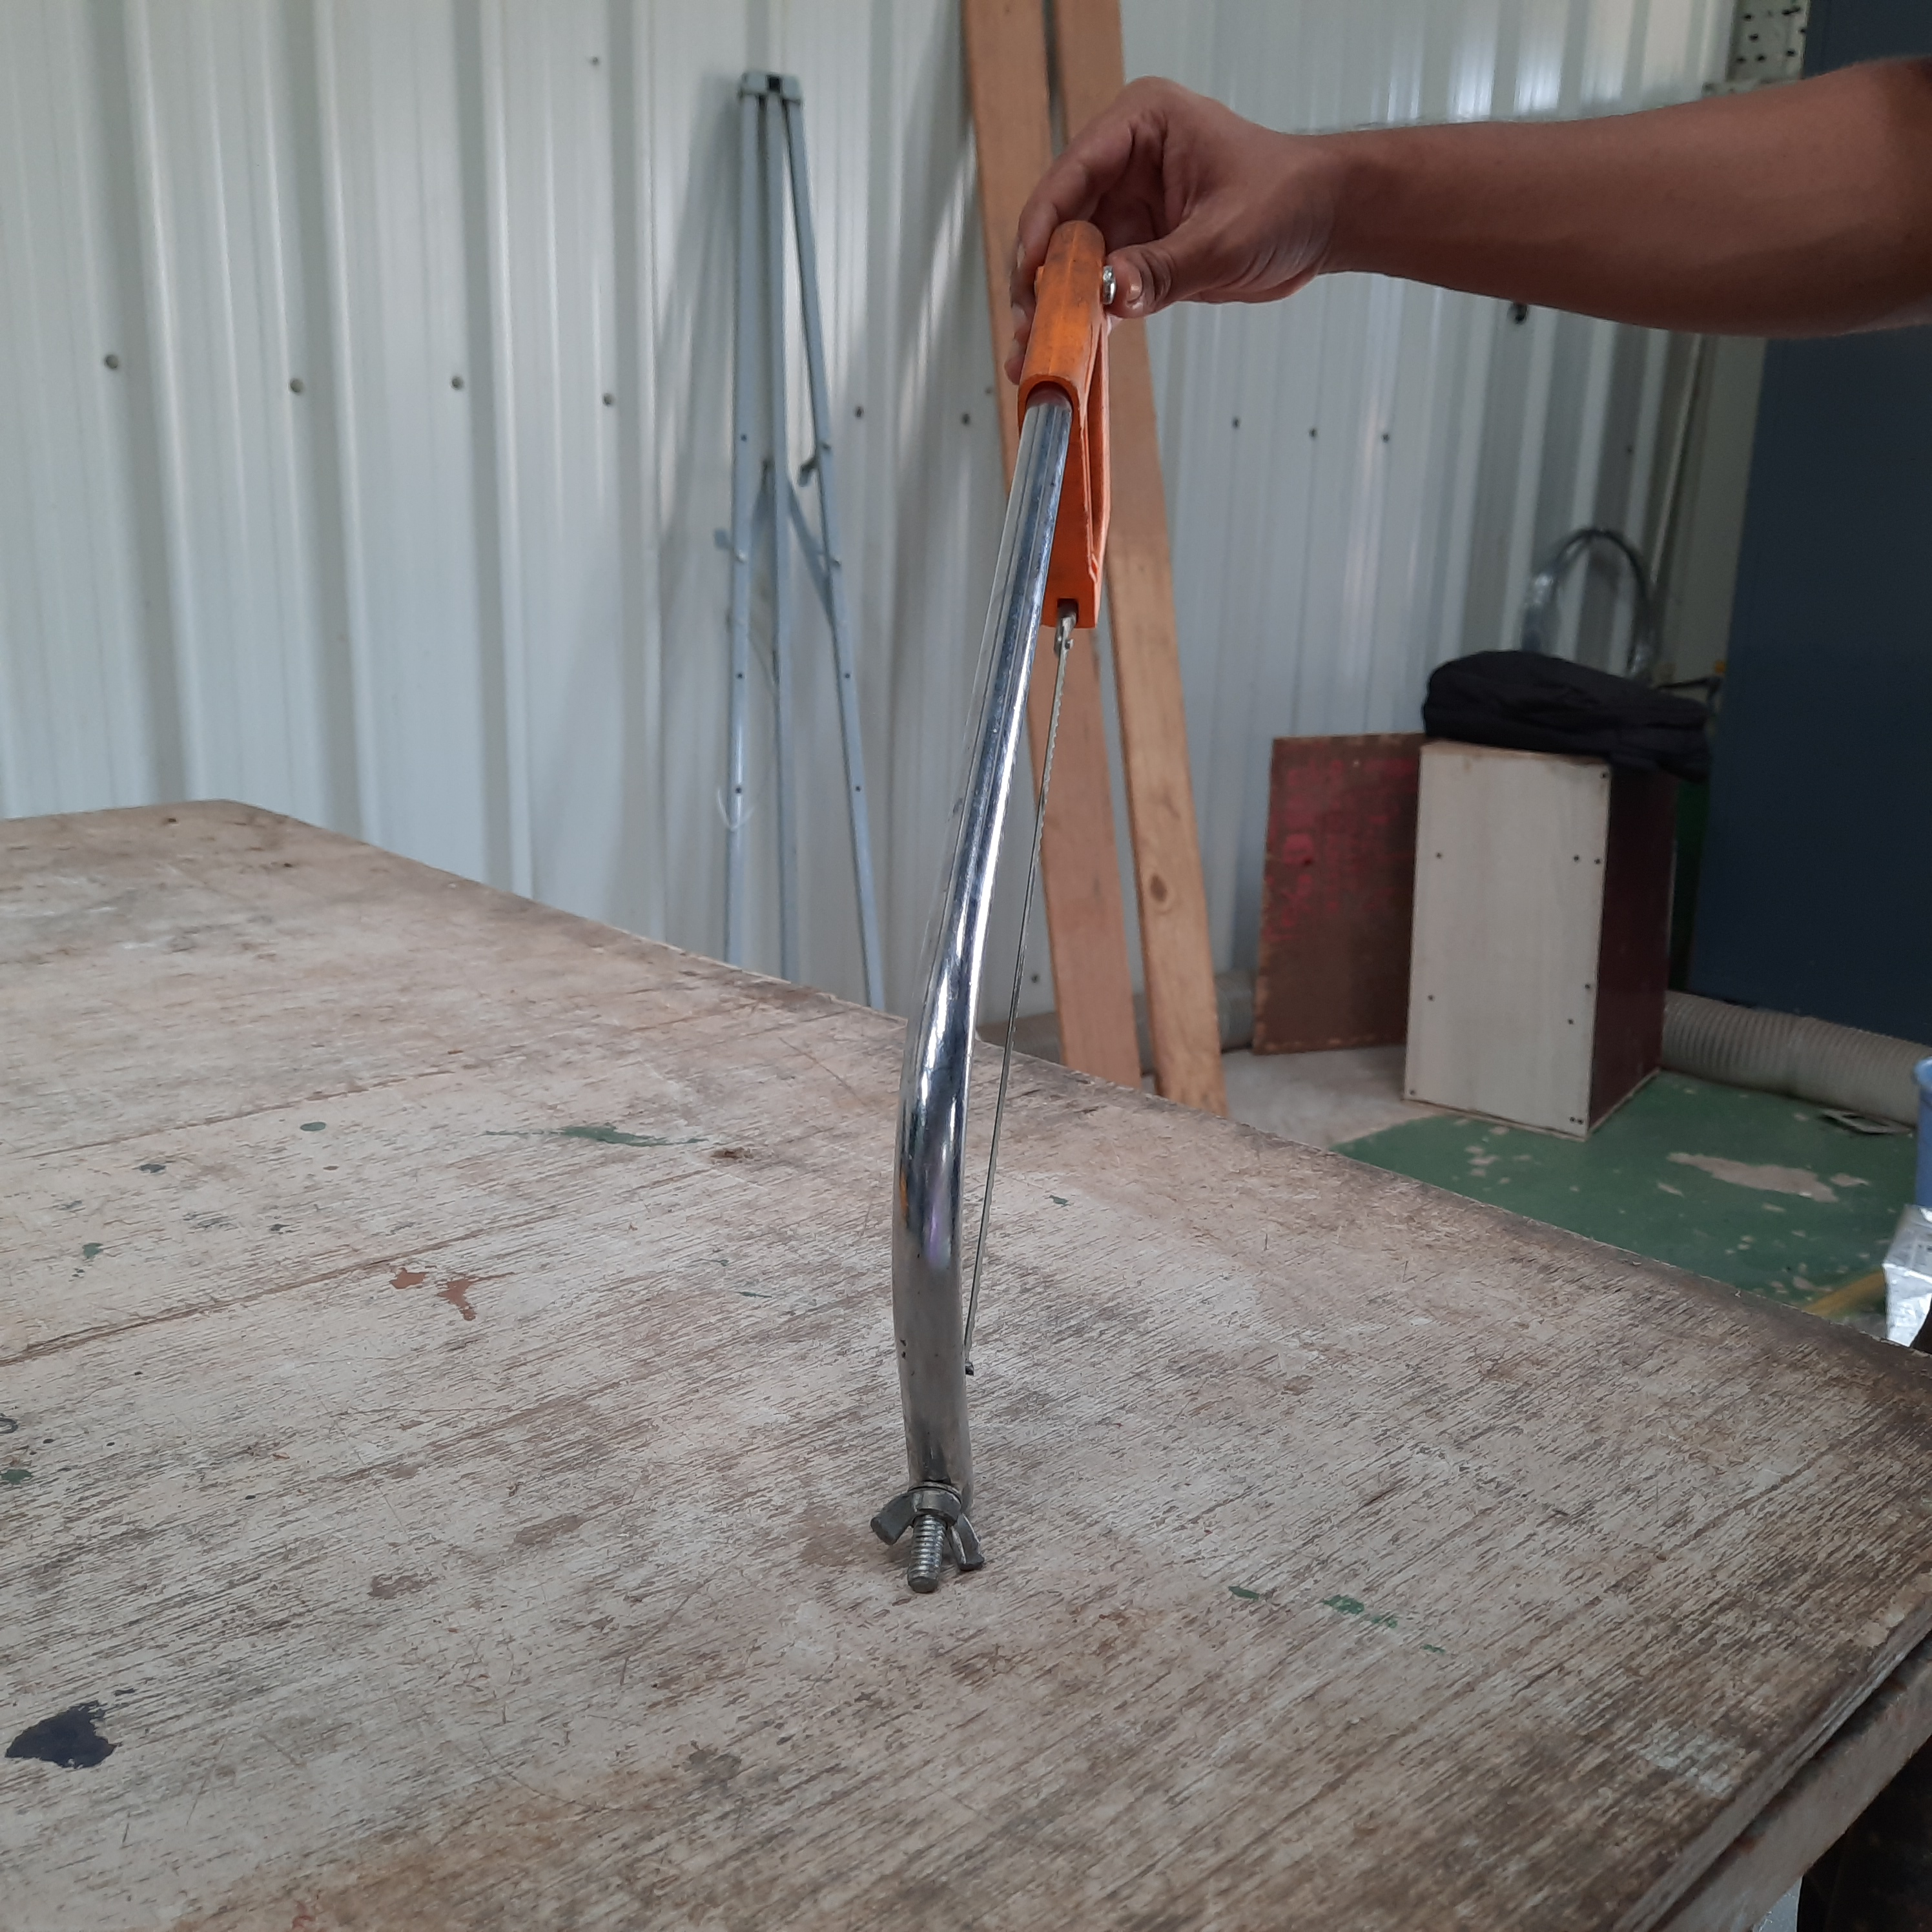Hexaframe: (821, 202, 1226, 1748)
